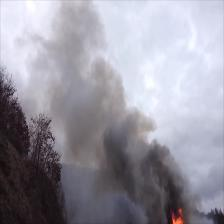fire: (166, 205, 186, 222)
